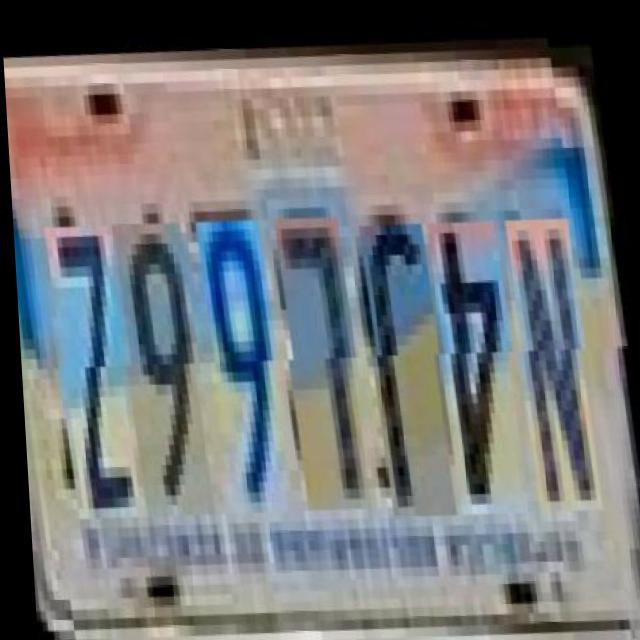4: (426, 213, 528, 510)
6: (110, 212, 212, 509), (195, 209, 290, 506)
j: (357, 215, 454, 512)
l: (273, 207, 368, 504)
n: (504, 211, 599, 508)
z: (43, 214, 140, 511)
